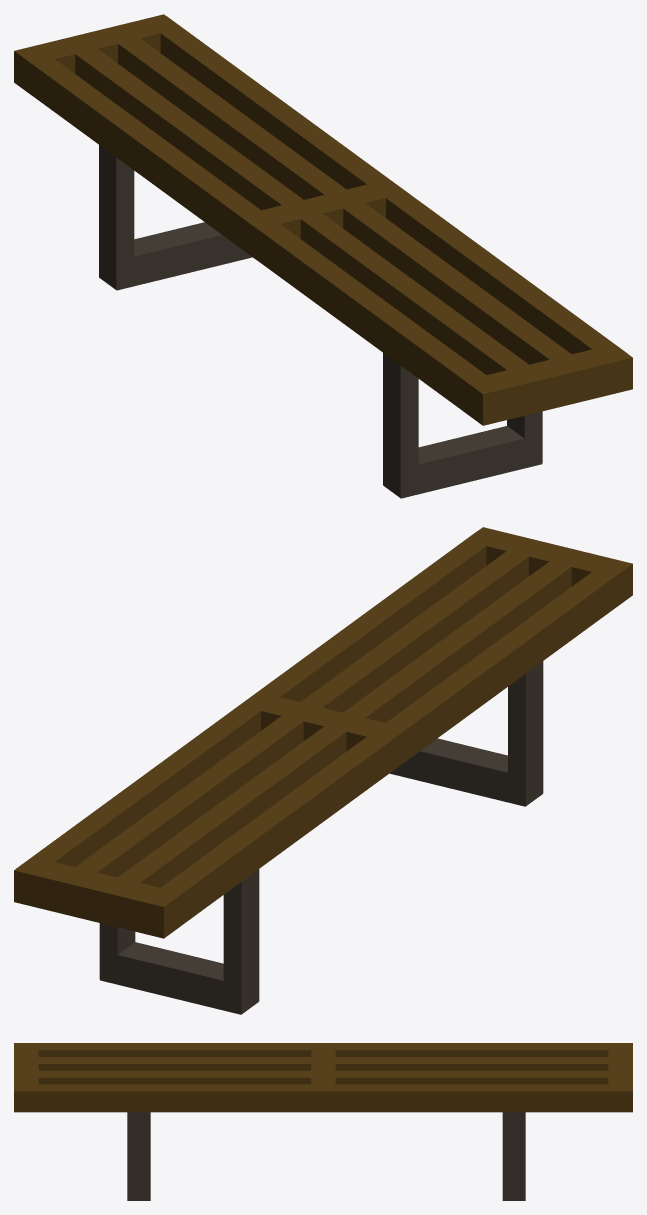
Rendered from chair.fbx.
The picture shows the model from 3 angles, top to bottom: view 1: azimuth 30°, elevation 25°; view 2: azimuth 150°, elevation 25°; view 3: azimuth 270°, elevation 25°; orthographic projection. The views are drawn at different scales.
Visible parts, largest first — view 1: pCube18; view 2: pCube18; view 3: pCube18.
Boxes of the visible parts, bbox=[...] form: pCube18: bbox=[14, 14, 632, 498]; pCube18: bbox=[14, 527, 632, 1014]; pCube18: bbox=[14, 1043, 632, 1200].
Bounding box in the file's own units: 1.77 × 1.9 × 9.57.
